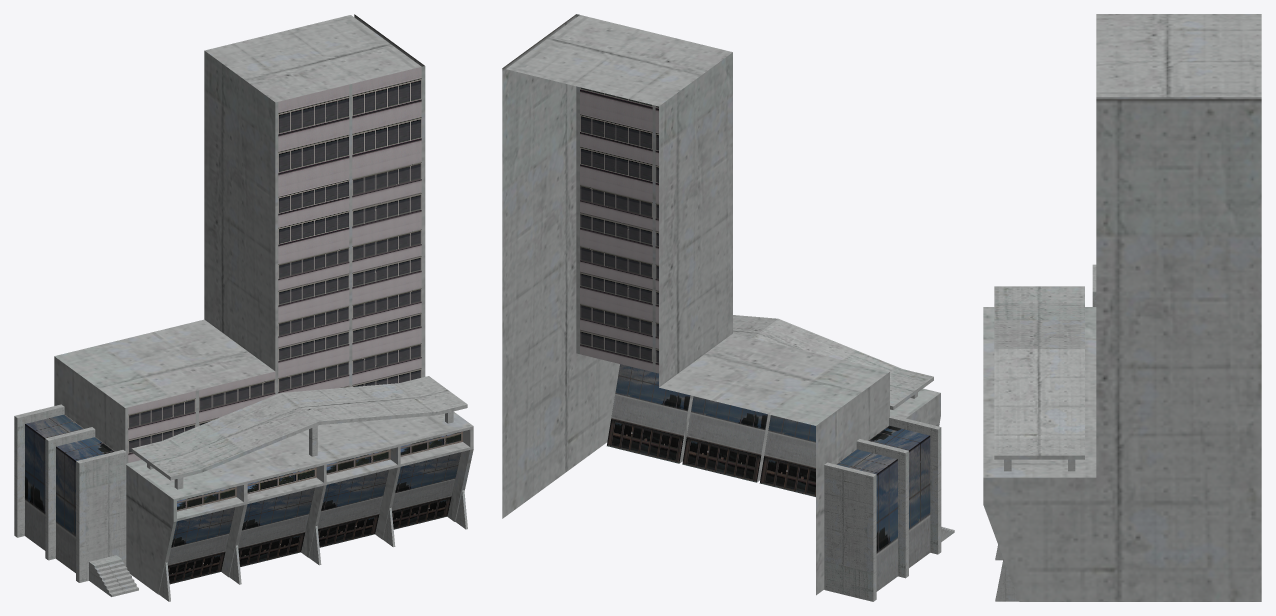
The model's file is Citybuilding12.fbx.
The picture shows the model from 3 angles, left to right: view 1: azimuth 30°, elevation 25°; view 2: azimuth 150°, elevation 25°; view 3: azimuth 270°, elevation 25°; orthographic projection. The views are drawn at different scales.
Parts seen in each view (by area): view 1: Citybuilding12; view 2: Citybuilding12; view 3: Citybuilding12.
Boxes of the visible parts, box(x1,y1,x2,y2) form: Citybuilding12: box(14, 14, 473, 601); Citybuilding12: box(502, 14, 954, 601); Citybuilding12: box(983, 14, 1261, 601).
Size of the model in its own units: 4524 by 5364 by 2694.
